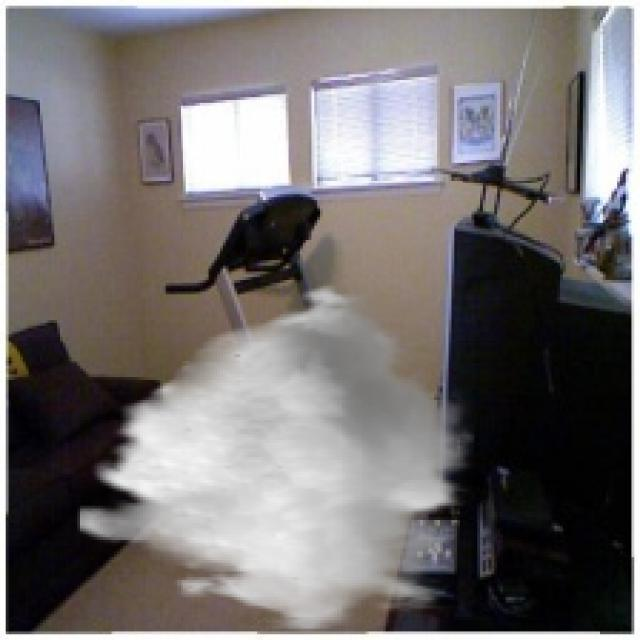Smoke: (77, 277, 474, 632)
